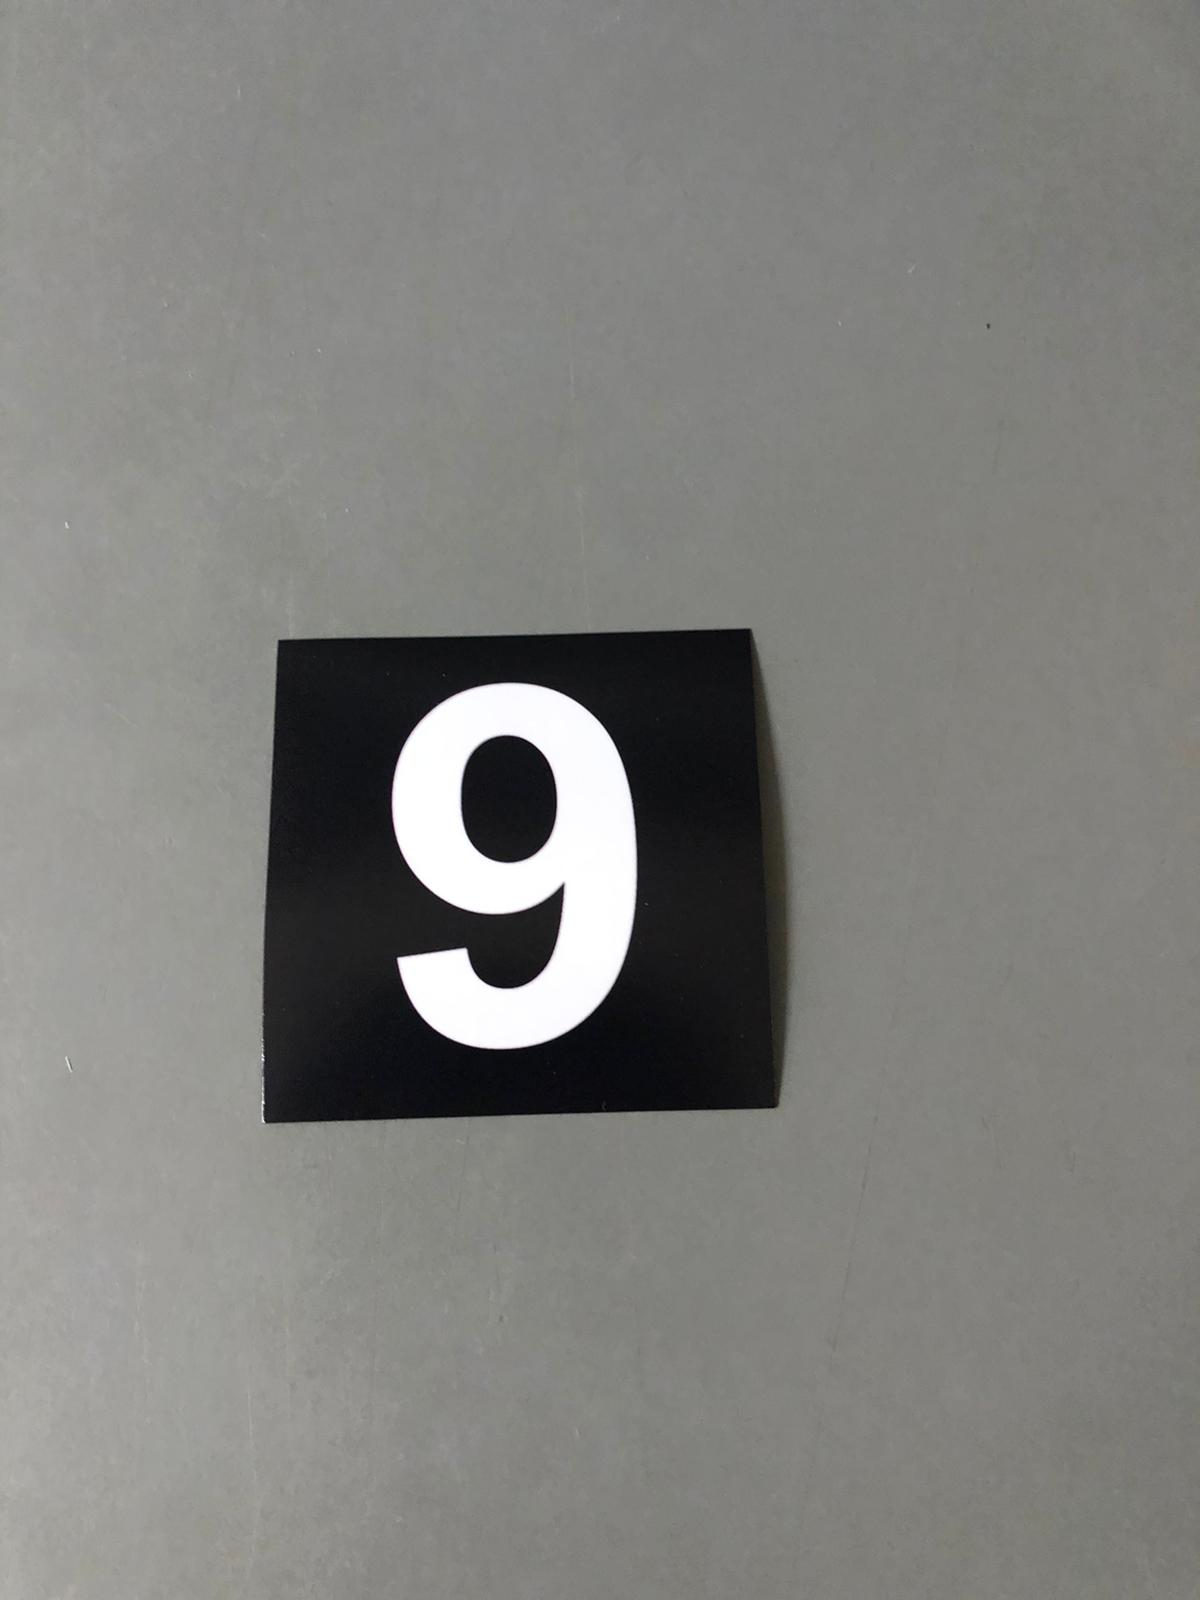Number 9: (286, 646, 758, 1094)
